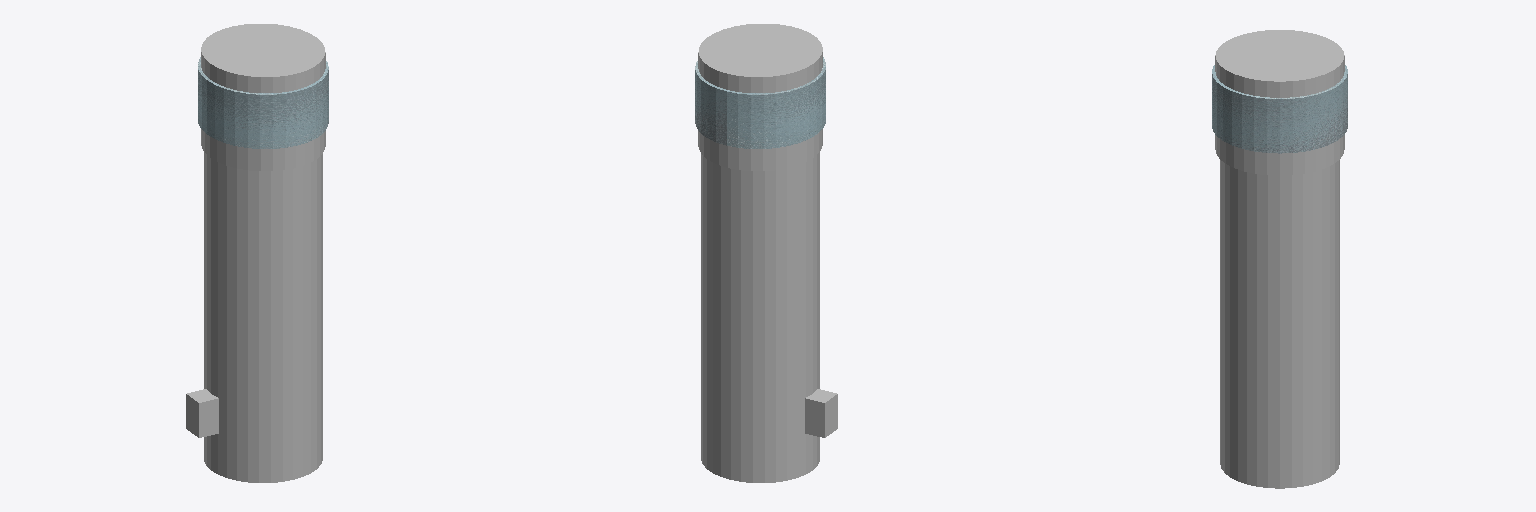
The picture shows the model from 3 angles: view 1: azimuth 30°, elevation 25°; view 2: azimuth 150°, elevation 25°; view 3: azimuth 270°, elevation 25°; orthographic projection.
Visible parts, largest first — view 1: Cylinder, Cylinder.002, Cylinder.001, Cube; view 2: Cylinder, Cylinder.002, Cylinder.001, Cube; view 3: Cylinder, Cylinder.002, Cylinder.001.
Boxes of the visible parts, x1,y1,x2,y2 form: Cylinder: [204, 152, 322, 482]; Cylinder.002: [201, 24, 325, 170]; Cylinder.001: [198, 57, 328, 148]; Cube: [186, 389, 218, 437]; Cylinder: [701, 152, 819, 482]; Cylinder.002: [698, 24, 822, 170]; Cylinder.001: [695, 57, 825, 148]; Cube: [805, 389, 837, 437]; Cylinder: [1220, 160, 1339, 488]; Cylinder.002: [1215, 30, 1344, 175]; Cylinder.001: [1212, 65, 1347, 153].
Bounding box in the file's own units: 0.1673 × 0.5134 × 0.1554.
Materials: 4 (1 with a texture image).